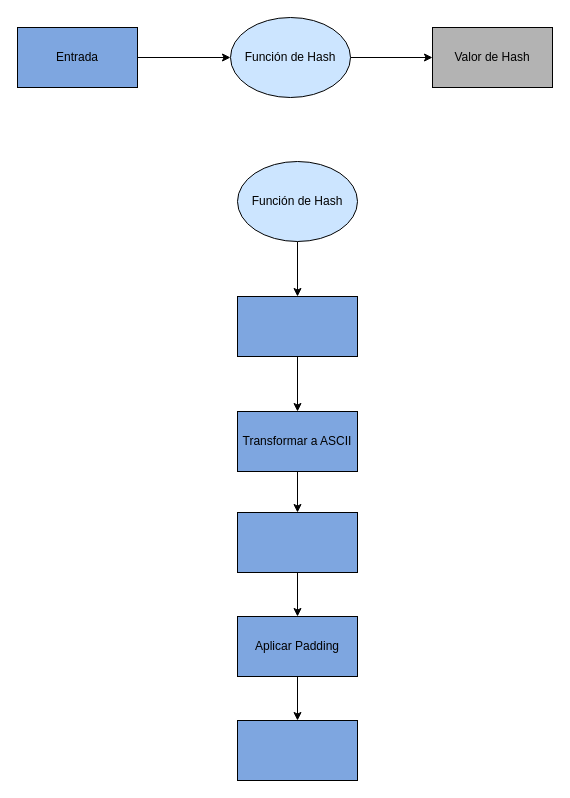
Some shapes in this 570 by 798 pixel diagram are drawn without their labels. Each missing label, with the box of its shape:
Salida (Valor de Hash): (236, 720, 358, 780)
Transforma a Base 64: (236, 296, 358, 356)
Transformar hexadecimal: (236, 512, 358, 572)
